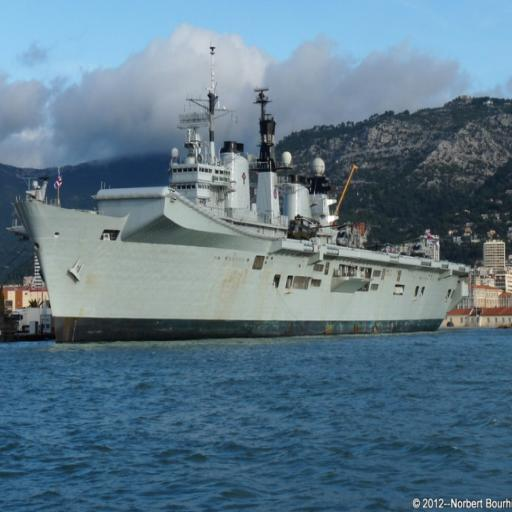Portanaves: (9, 57, 475, 350)
